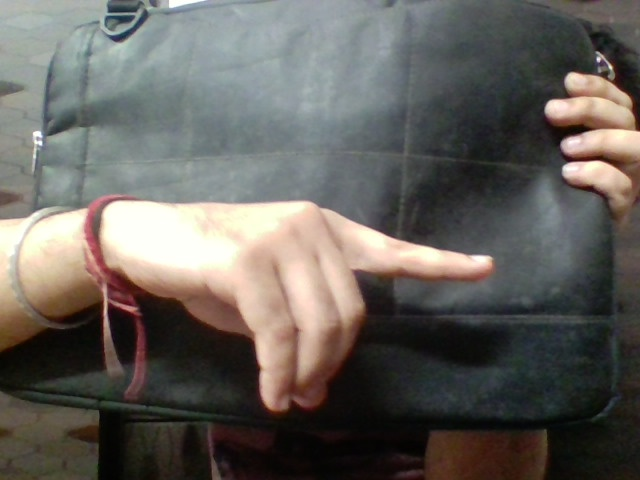p: (153, 170, 512, 423)
